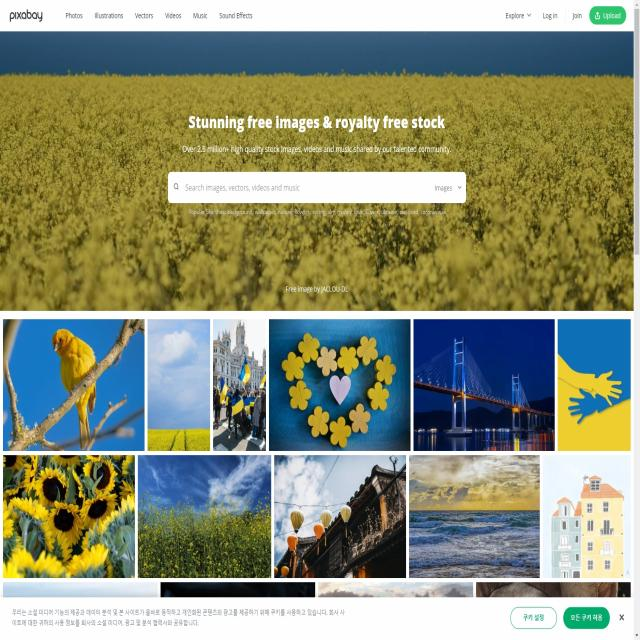menu-bar: (57, 3, 256, 27), (501, 2, 630, 27)
search: (166, 170, 468, 204)
